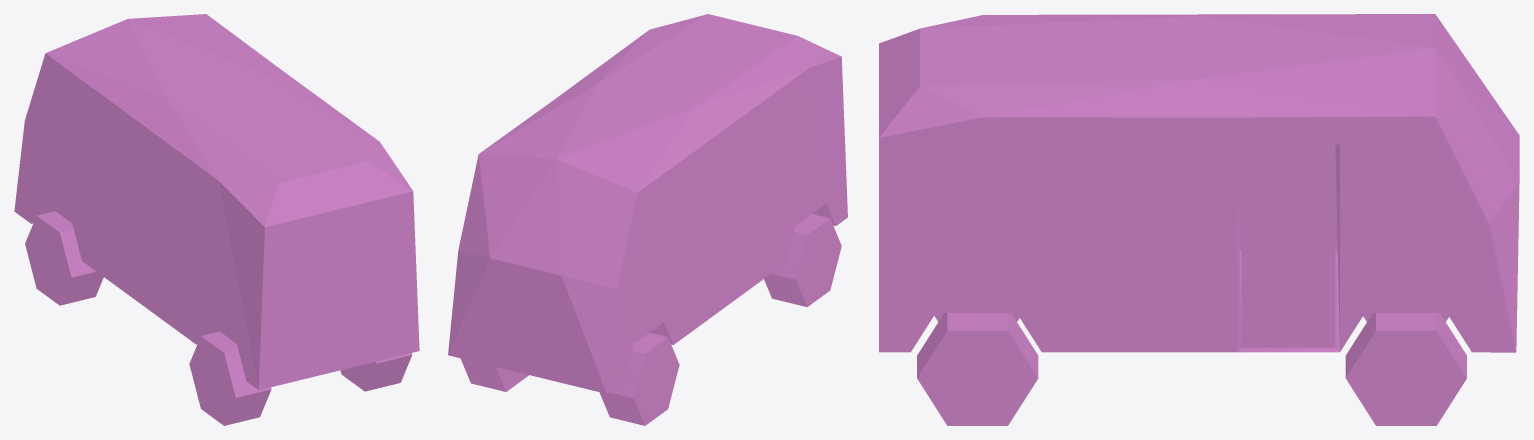
Rendered from retrobus.glb.
The picture shows the model from 3 angles, left to right: view 1: azimuth 30°, elevation 25°; view 2: azimuth 150°, elevation 25°; view 3: azimuth 270°, elevation 25°; orthographic projection. The views are drawn at different scales.
Visible parts, largest first — view 1: retrobus; view 2: retrobus; view 3: retrobus.
Boxes of the visible parts, box(x1,y1,x2,y2) form: retrobus: box(14, 14, 419, 425); retrobus: box(448, 14, 847, 425); retrobus: box(879, 14, 1519, 425).
Size of the model in its own units: 367 by 492 by 887.
